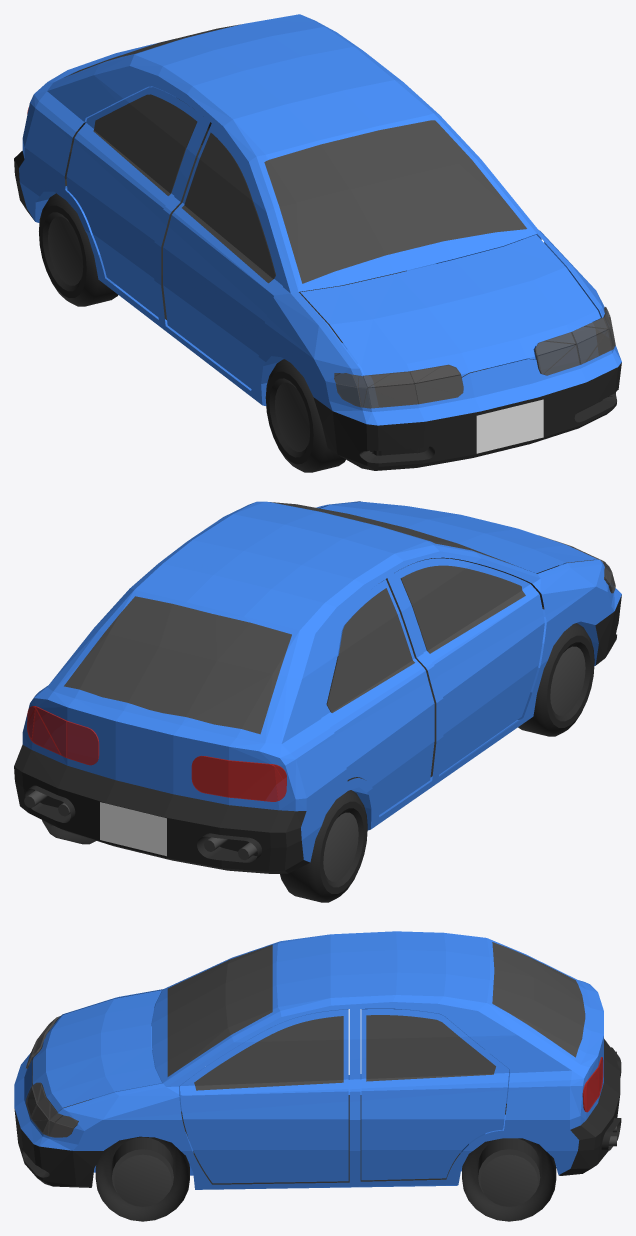
File: base_pretextured.obj
3 views of the same model, one above another, from view 1: azimuth 30°, elevation 25°; view 2: azimuth 150°, elevation 25°; view 3: azimuth 270°, elevation 25° (orthographic). The views are drawn at different scales.
Parts seen in each view (by area): view 1: BODY, FRONTWINDOWGLASS, HOOD, FRONTDOORS, REARDOORS, FRONTBUMPER, HEADLIGHTS, TYRES, FRONTWINDOWS, BACKWINDOWS, WHEELS, LICENSEPLATE (+3 smaller); view 2: BODY, REARWINDOWGLASS, REARBUMPER, FRONTDOORS, REARDOORS, TYRES, HOOD, FRONTWINDOWS, TAILLIGHTS, BACKWINDOWS, WHEELS, LICENSEPLATE (+4 smaller); view 3: BODY, FRONTDOORS, REARDOORS, HOOD, FRONTWINDOWGLASS, TYRES, FRONTWINDOWS, BACKWINDOWS, REARWINDOWGLASS, WHEELS, REARBUMPER, FRONTBUMPER (+3 smaller).
Boxes of the visible parts, x1,y1,x2,y2 form: BODY: [19, 14, 621, 425]; FRONTWINDOWGLASS: [264, 120, 526, 283]; HOOD: [300, 234, 600, 376]; FRONTDOORS: [163, 123, 541, 388]; REARDOORS: [66, 87, 203, 316]; FRONTBUMPER: [313, 362, 621, 470]; HEADLIGHTS: [334, 307, 615, 408]; TYRES: [39, 193, 345, 472]; FRONTWINDOWS: [182, 132, 275, 283]; BACKWINDOWS: [93, 94, 196, 195]; WHEELS: [48, 216, 309, 451]; LICENSEPLATE: [476, 399, 543, 453]; BODY: [22, 501, 621, 862]; REARWINDOWGLASS: [64, 596, 291, 734]; REARBUMPER: [14, 744, 309, 873]; FRONTDOORS: [394, 558, 544, 774]; REARDOORS: [320, 579, 434, 814]; TYRES: [42, 623, 594, 902]; HOOD: [321, 501, 597, 573]; FRONTWINDOWS: [401, 565, 525, 653]; TAILLIGHTS: [27, 706, 286, 801]; BACKWINDOWS: [327, 588, 414, 712]; WHEELS: [323, 646, 585, 881]; LICENSEPLATE: [100, 802, 166, 856]; BODY: [14, 931, 603, 1189]; FRONTDOORS: [180, 1009, 348, 1183]; REARDOORS: [361, 1008, 509, 1180]; HOOD: [32, 990, 161, 1111]; FRONTWINDOWGLASS: [167, 945, 272, 1076]; TYRES: [95, 1136, 556, 1221]; FRONTWINDOWS: [194, 1016, 343, 1090]; BACKWINDOWS: [366, 1015, 495, 1081]; REARWINDOWGLASS: [492, 942, 585, 1057]; WHEELS: [112, 1149, 540, 1206]; REARBUMPER: [559, 1039, 621, 1175]; FRONTBUMPER: [14, 1045, 103, 1187].
Size of the model in its own units: 1681 by 1468 by 3888.
